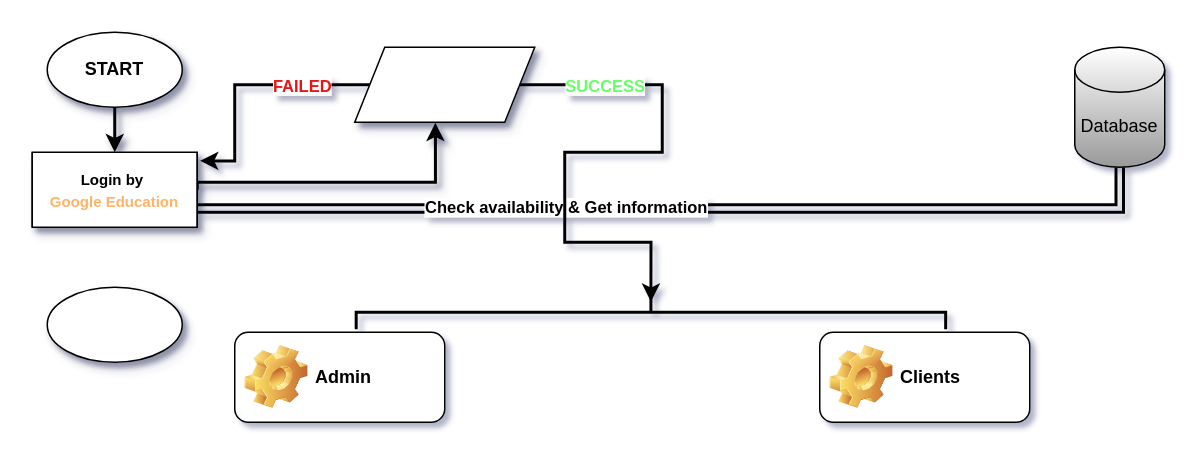
This 1200x458 diagram has some shape labels left out. Here are the shapes that lost their labels. From the top down, the centre of each, then its label:
(x=445, y=86): Checking Role/ Permission
(x=115, y=326): END
